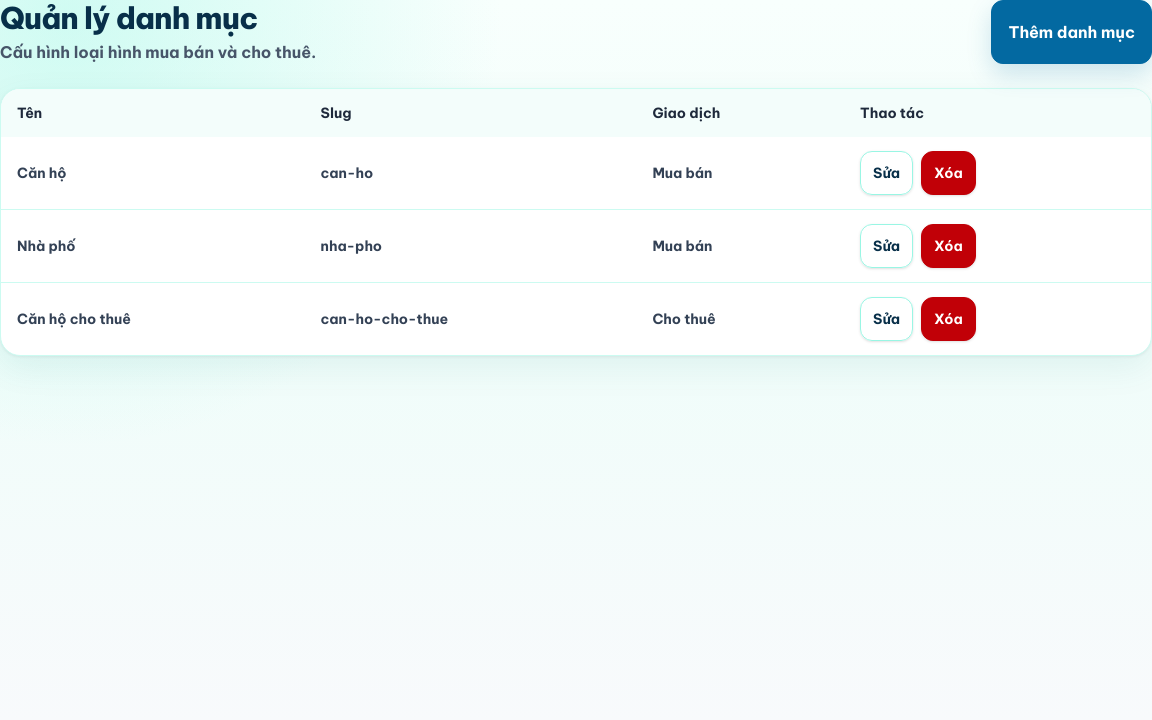
Test case: admin workspace › completes category create flow
The image size is (1152, 720).
Expected: the text "Căn hộ" is shown, [17,164,66,182]
Click the button "Thêm danh mục".
click(1072, 32)  # box [991,0,1151,64]
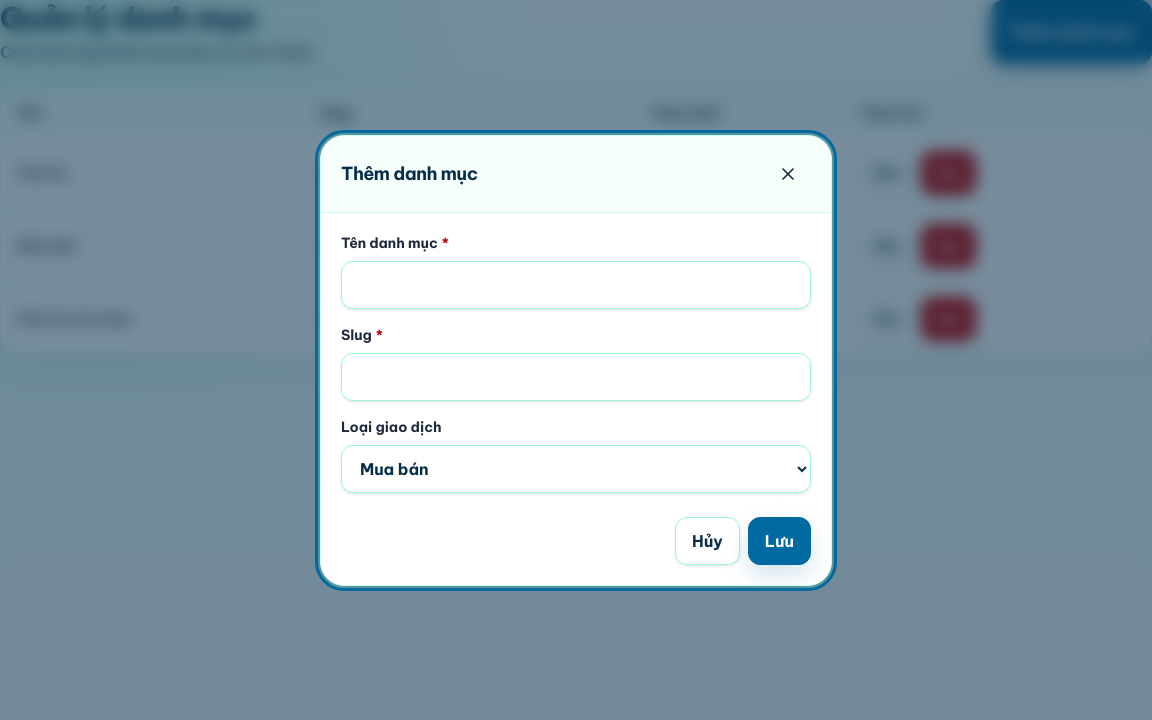
Type "Đất nền" into the field labelled "Tên danh mục*".
click(576, 284); type("Đất nền")  # box [341,260,811,308]
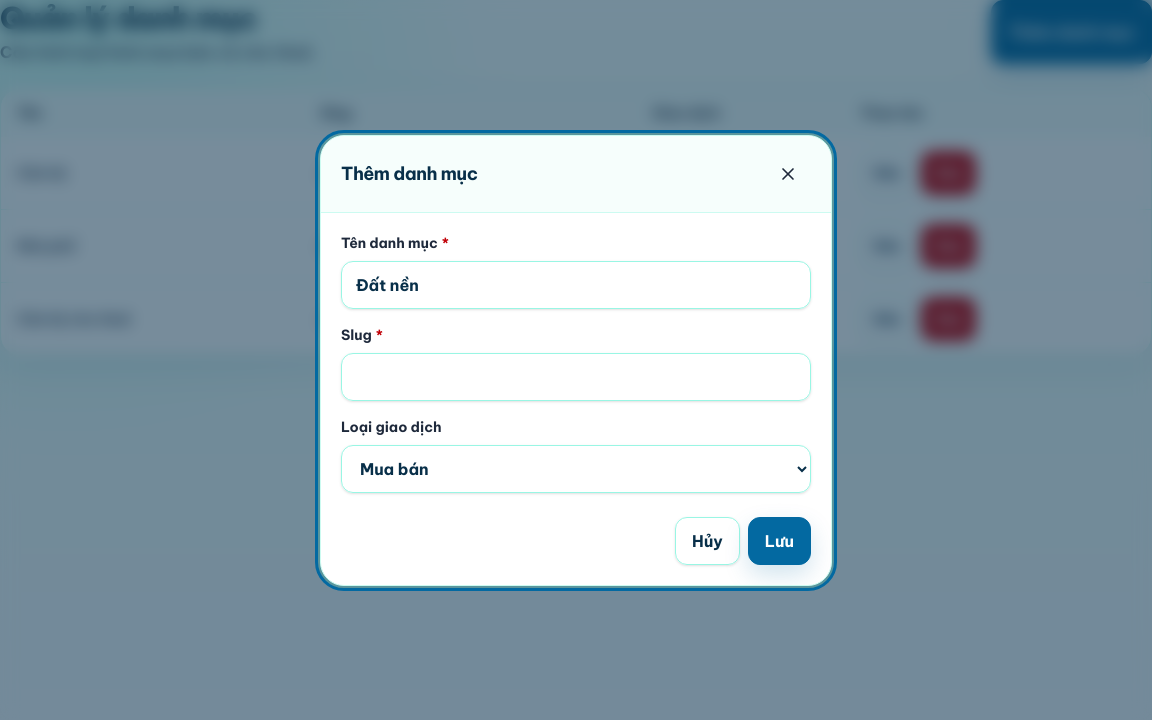
Type "dat-nen" into the field labelled "Slug*".
click(576, 376); type("dat-nen")  # box [341,352,811,400]
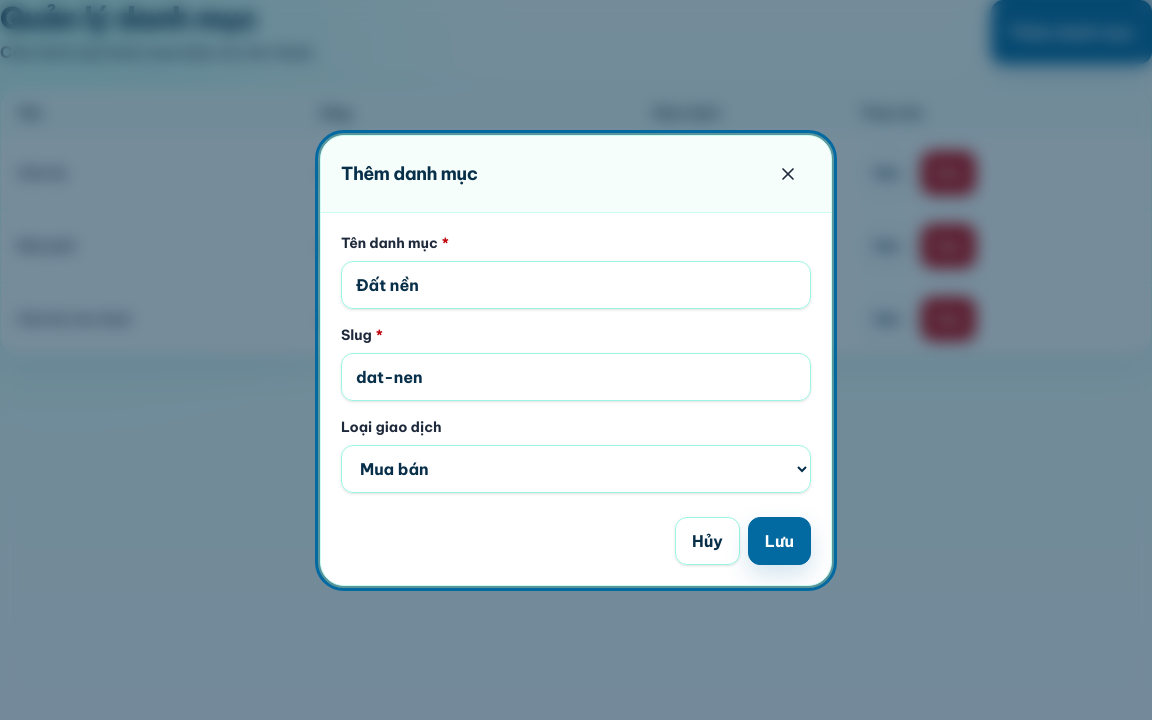
Click the button "Lưu".
click(779, 540)  # box [748,516,811,564]
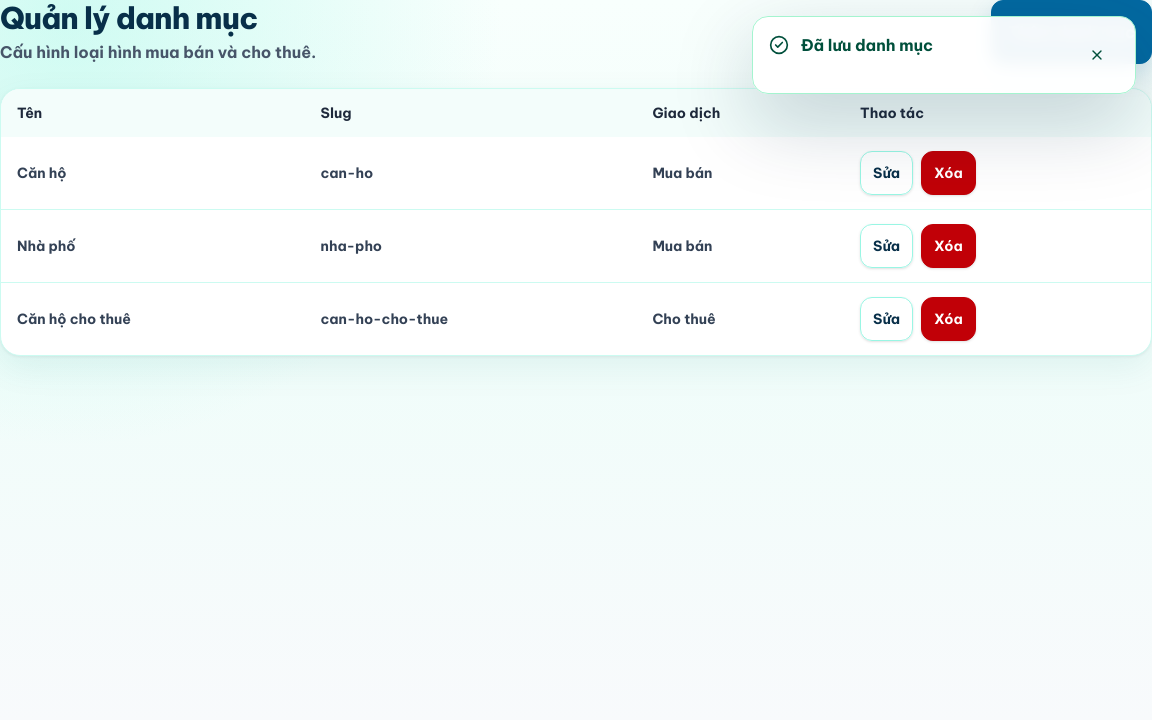
Expected: the text "Đã lưu danh mục" is shown, [801,35,933,55]
